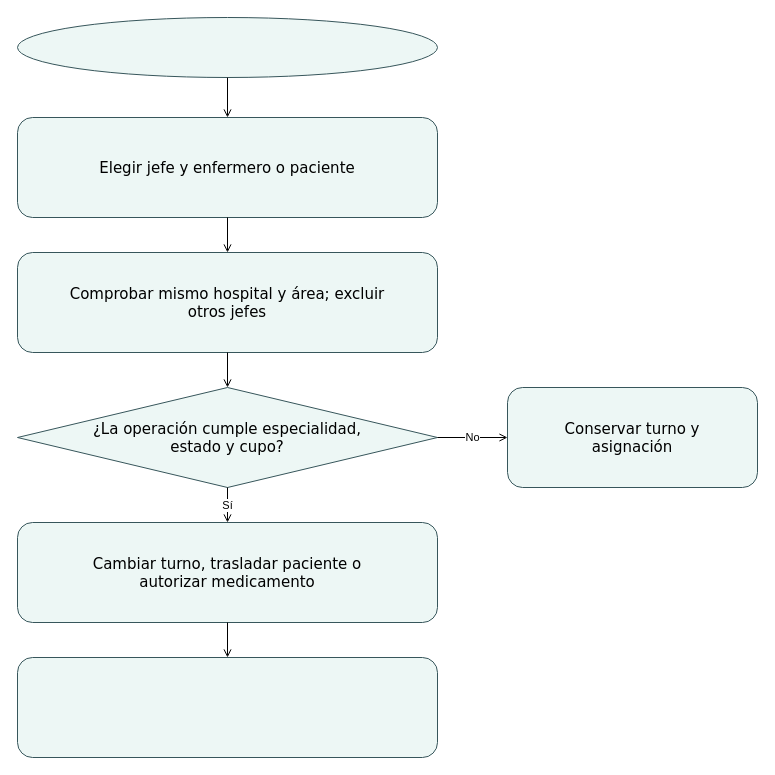
Some shapes in this 775 by 775 pixel diagram are drawn without their labels. Each missing label, with the box of its shape:
Mostrar equipo del área; máximo dos jefes por ID: (16, 656, 438, 758)
Supervisar especialidad: (16, 16, 438, 78)
